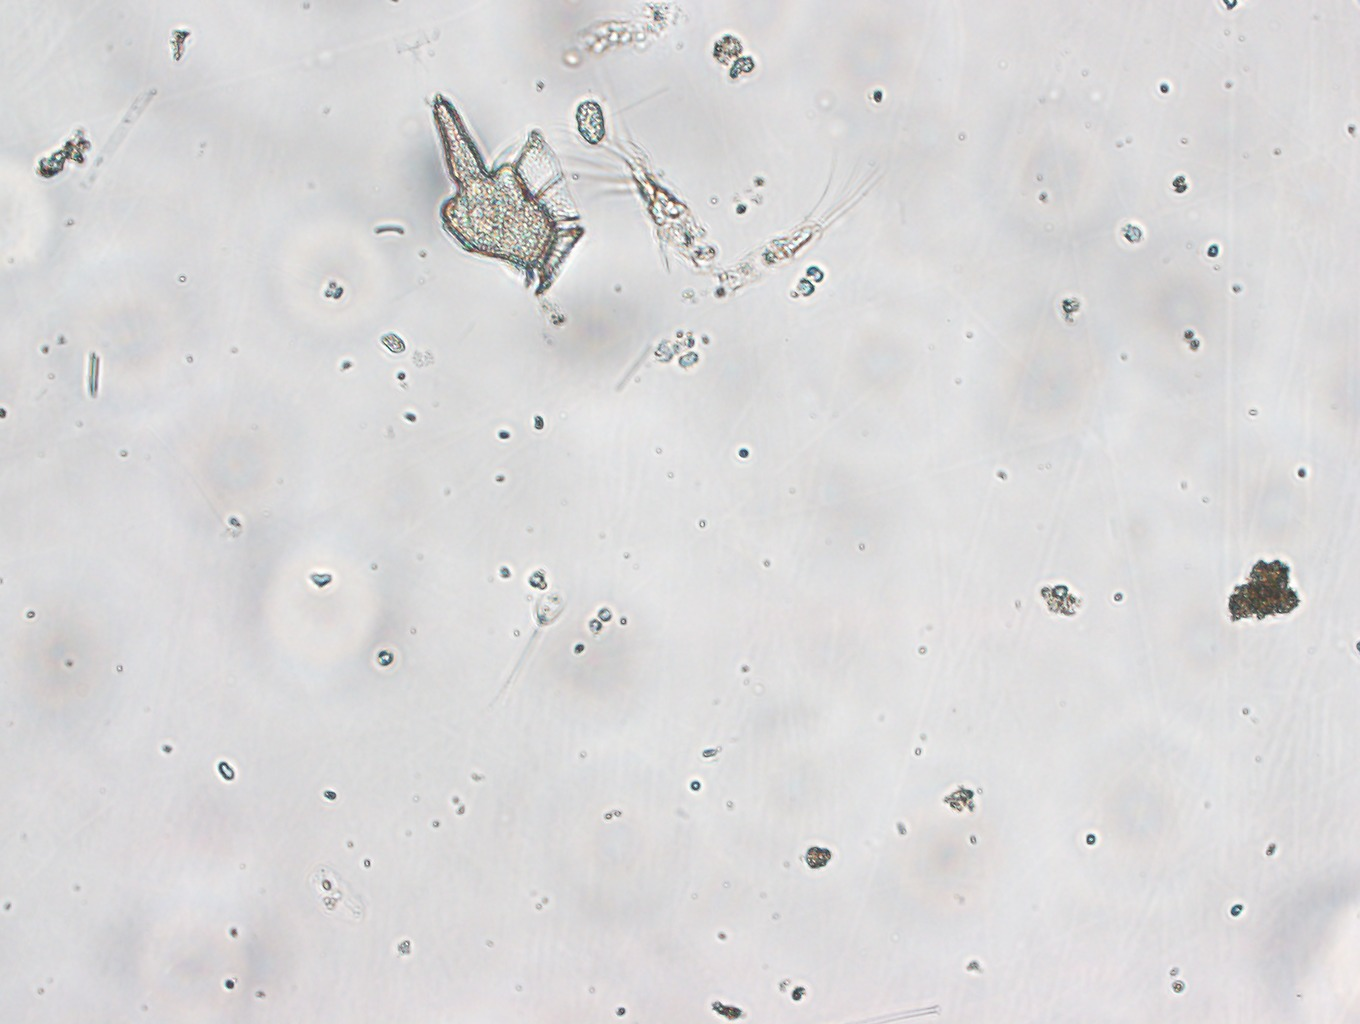dinophysis caudata: (407, 88, 607, 298)
